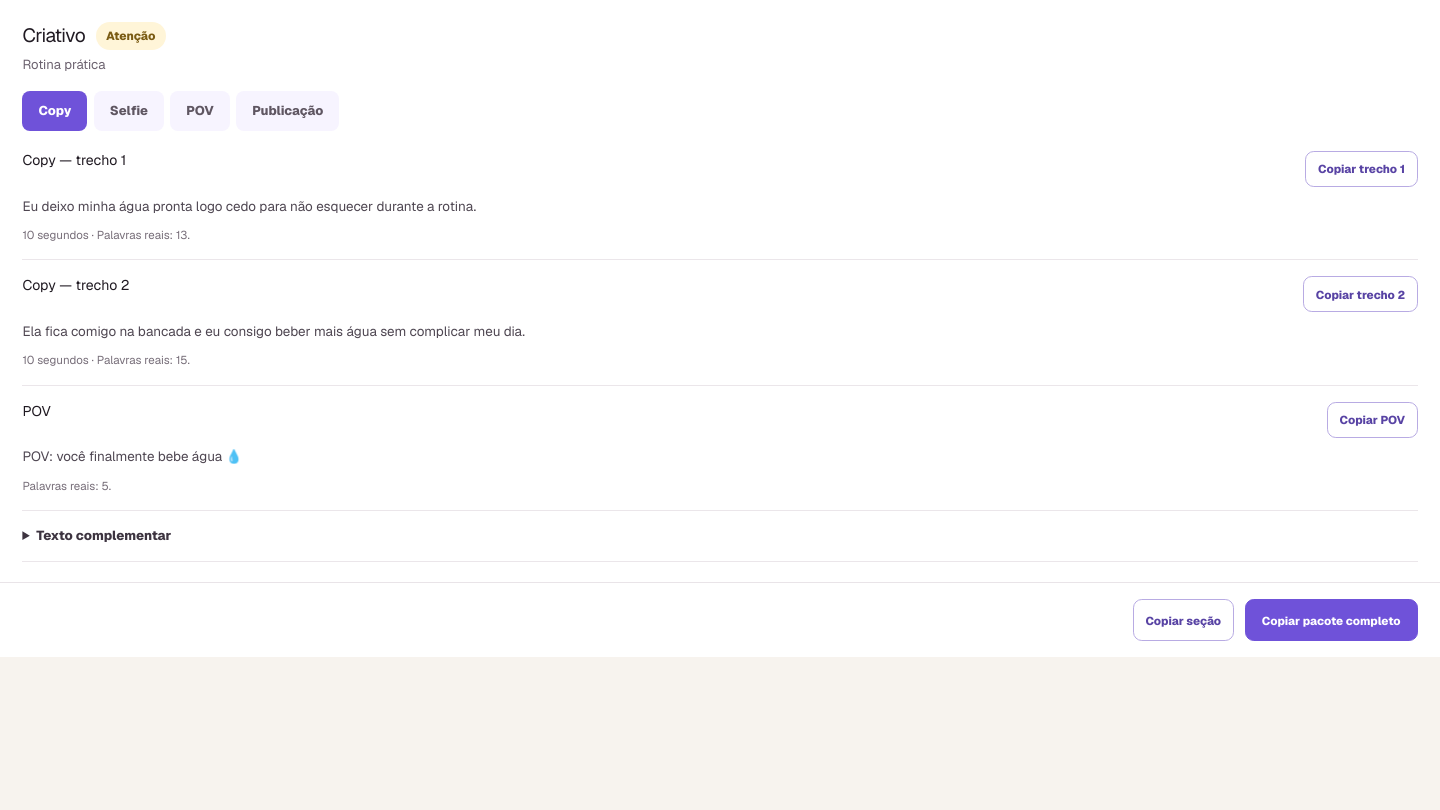
it: ResultCard › keeps result groups behind compact tabs and exposes the Gemini prompt
Check: the tab "Copy" is shown, box 22,91 -> 87,131
Check: the tab "POV" is shown, box 170,91 -> 230,131
Click the tab "Selfie" at (129, 111), box 94,91 -> 164,131
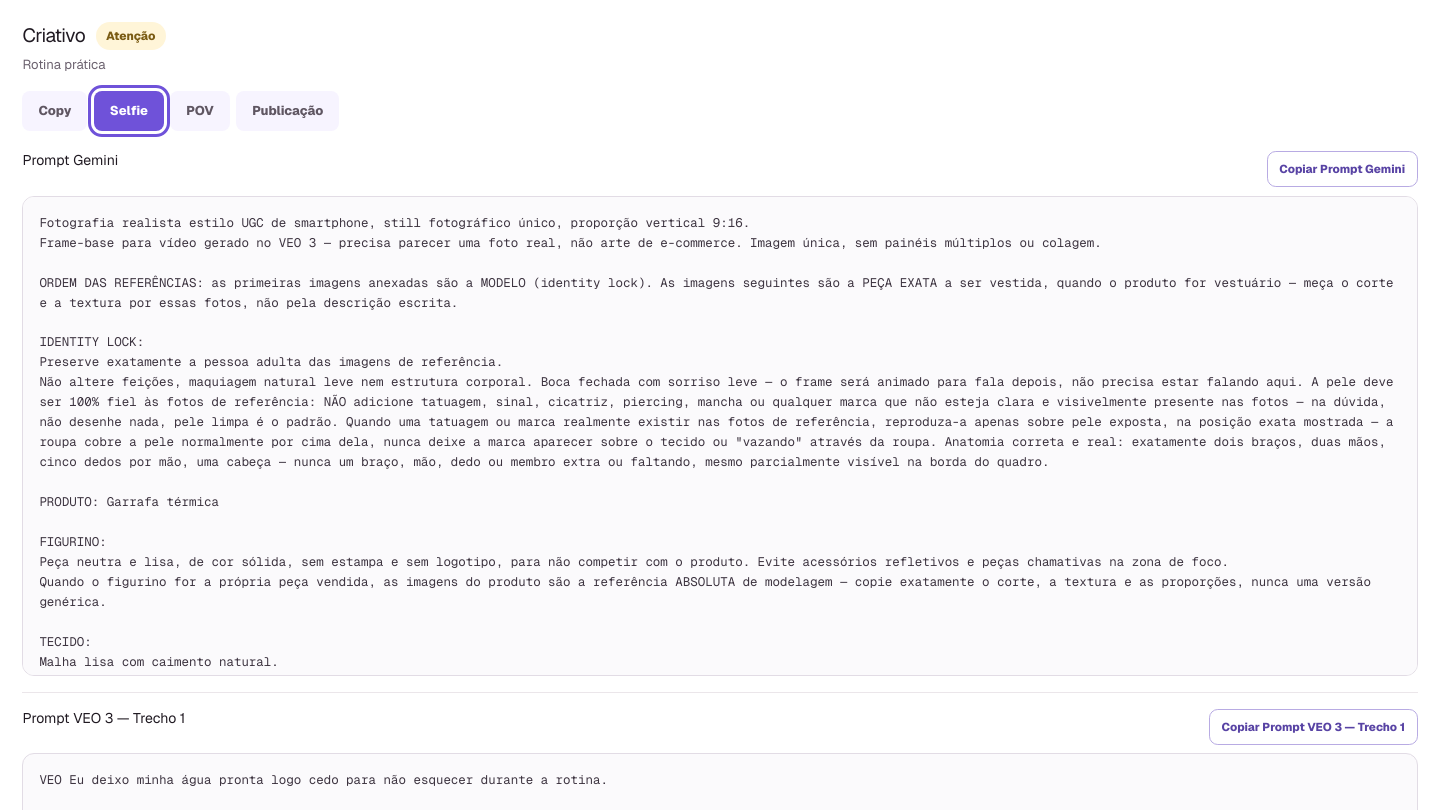
Check: the heading "Prompt Gemini" is shown, box 22,151 -> 118,170
Check: the button "Copiar Prompt Gemini" is shown, box 1267,151 -> 1418,187
